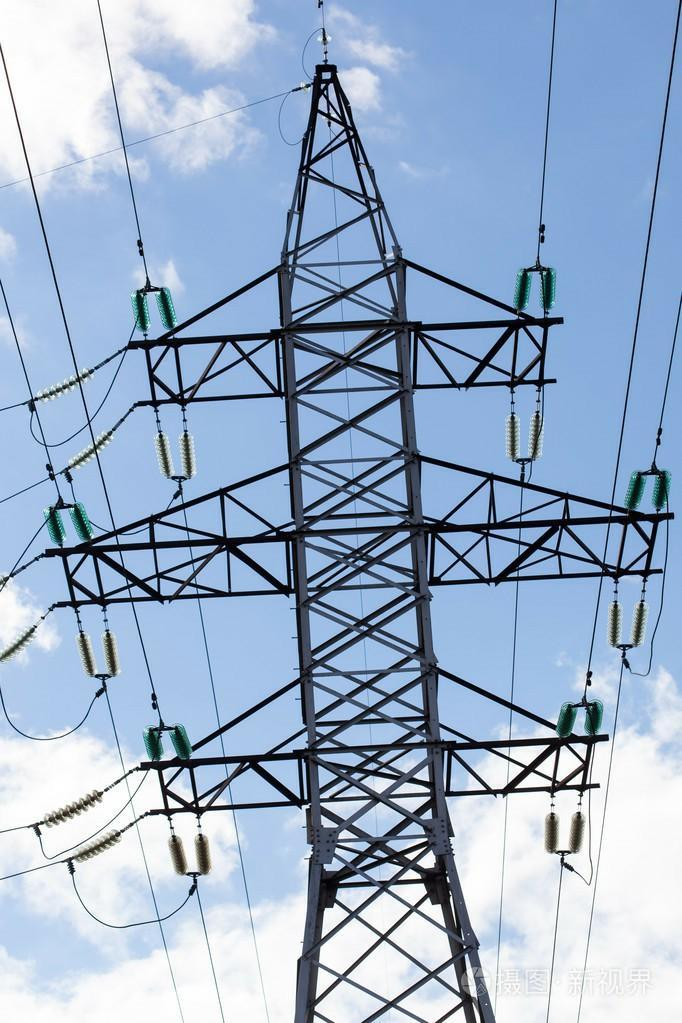power_tower: (68, 38, 671, 1023)
